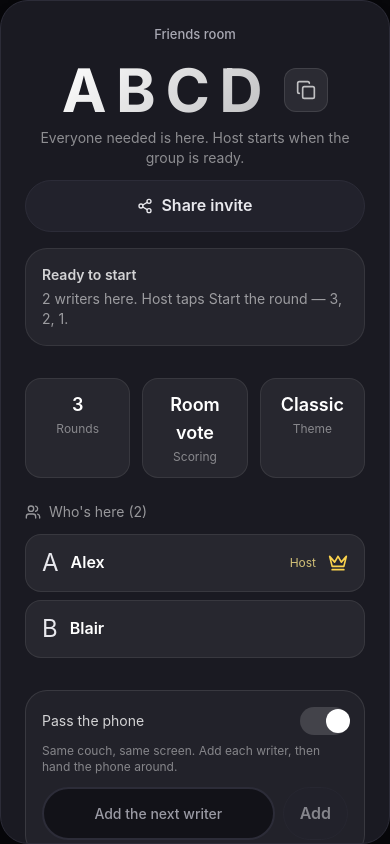
Test: RoomLobby › falls back to clipboard when share is unavailable
The width and height of the screenshot is (390, 844).
Click the button "Share invite". click: (195, 206)
box: [25,180,365,232]
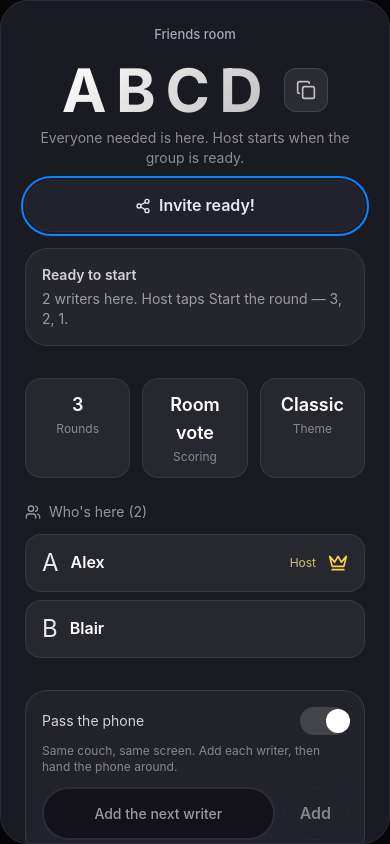
Expected: the button "Invite ready!" is shown, [25,180,365,232]
